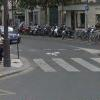Crosswalk: (26, 50, 100, 84)
